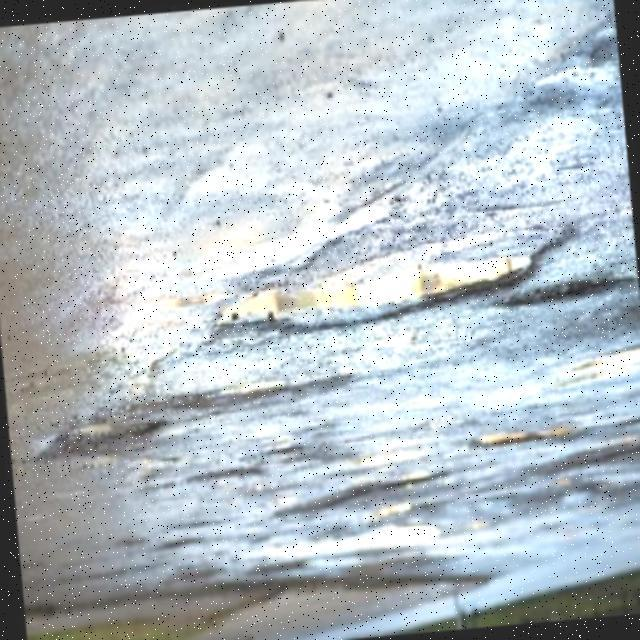Pothole: (203, 222, 565, 336)
